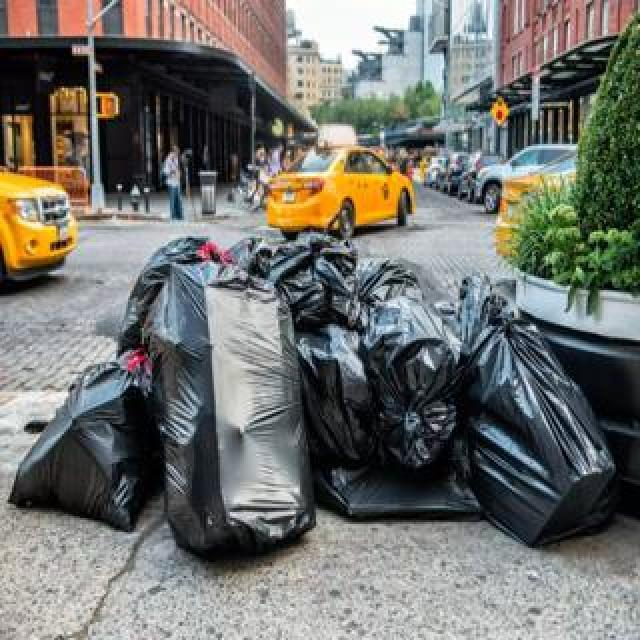Trashbag: (153, 305, 313, 540), (467, 334, 617, 544), (15, 370, 172, 533), (372, 304, 468, 475), (117, 234, 220, 361), (304, 336, 380, 466), (274, 239, 367, 340)
